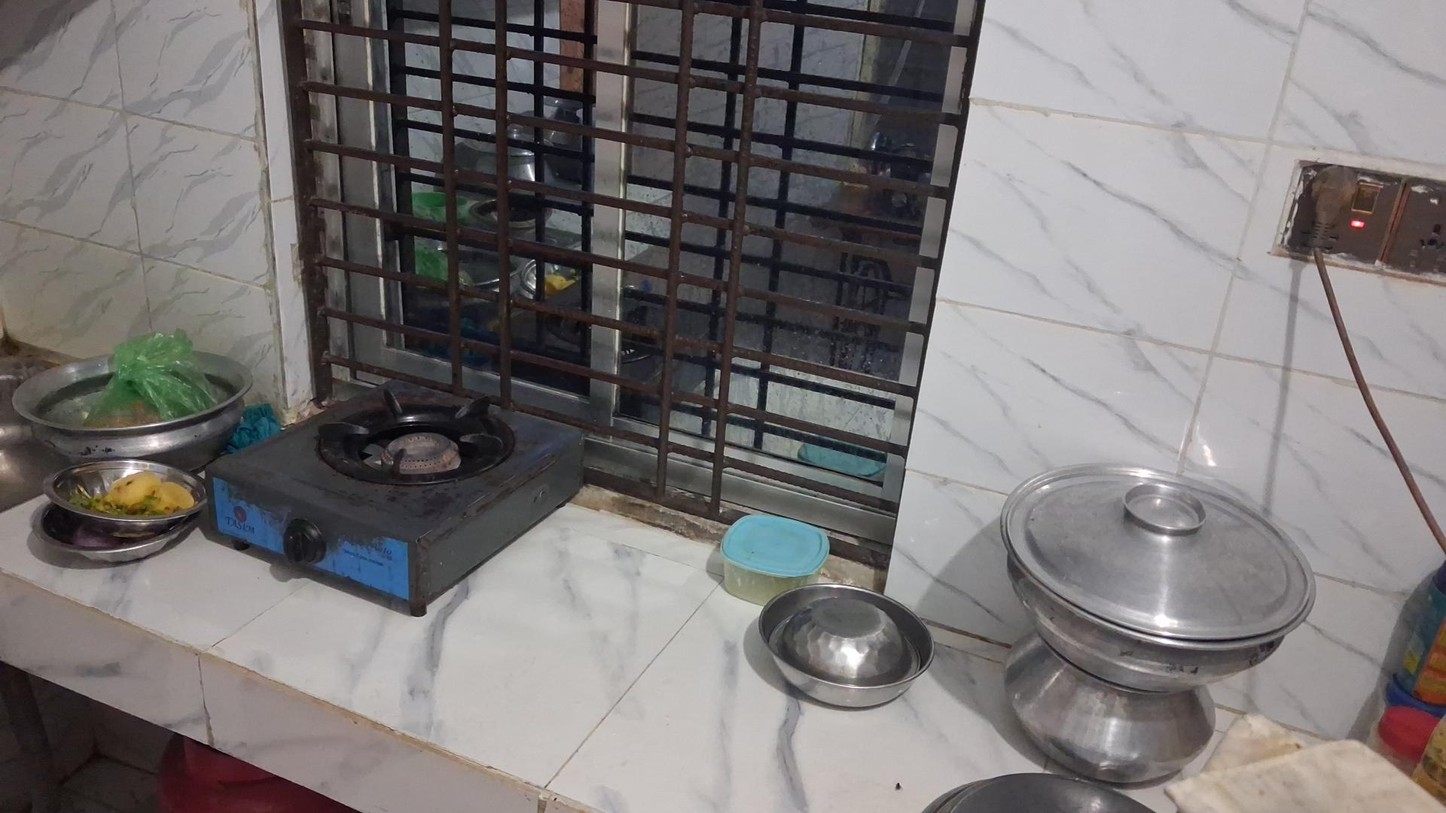Bowl: (757, 583, 934, 710), (42, 459, 205, 534)
Food: (111, 477, 185, 512)
Jar: (719, 513, 830, 607)
Pot: (998, 472, 1320, 686), (994, 632, 1208, 788), (11, 348, 254, 472)
Window: (271, 3, 983, 593)
